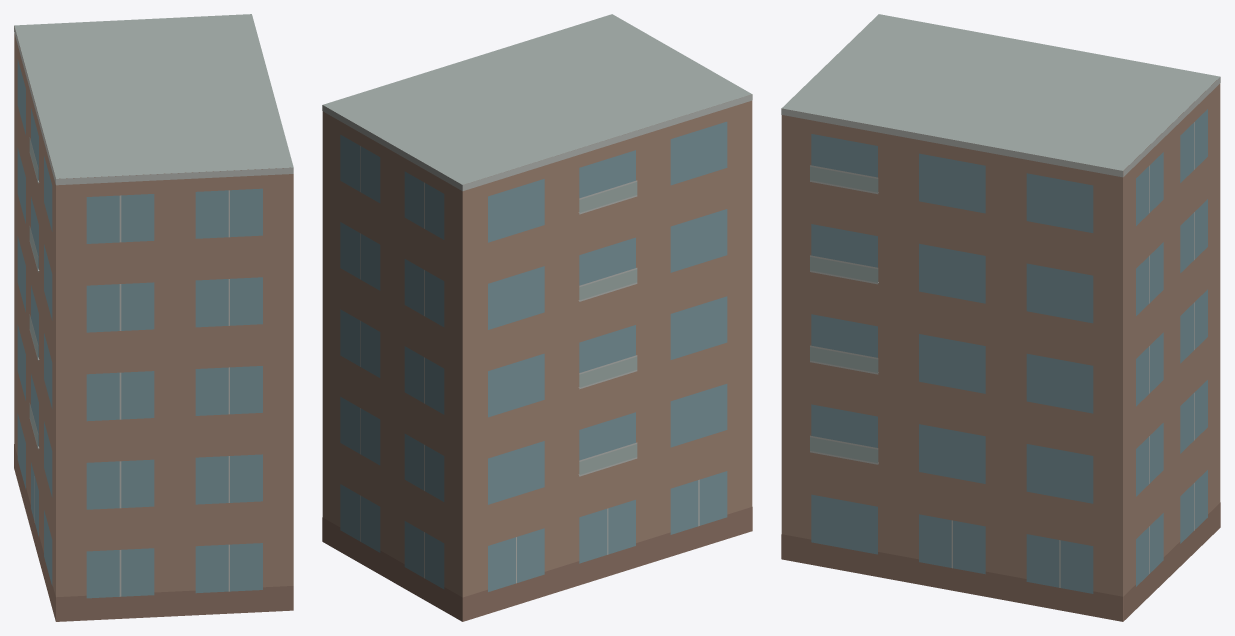
Rendered from survey-upis-32532173.glb.
3 views of the same model, side by side, from view 1: azimuth 30°, elevation 25°; view 2: azimuth 150°, elevation 25°; view 3: azimuth 270°, elevation 25° (orthographic). The views are drawn at different scales.
Parts seen in each view (by area): view 1: survey-upis-32532173.tmp; view 2: survey-upis-32532173.tmp; view 3: survey-upis-32532173.tmp.
Boxes of the visible parts, x1=… form: survey-upis-32532173.tmp: x1=14, y1=14, x2=293, y2=621; survey-upis-32532173.tmp: x1=322, y1=14, x2=752, y2=621; survey-upis-32532173.tmp: x1=781, y1=14, x2=1220, y2=621.
Bounding box in the file's own units: 12.71 × 17.02 × 15.02.
